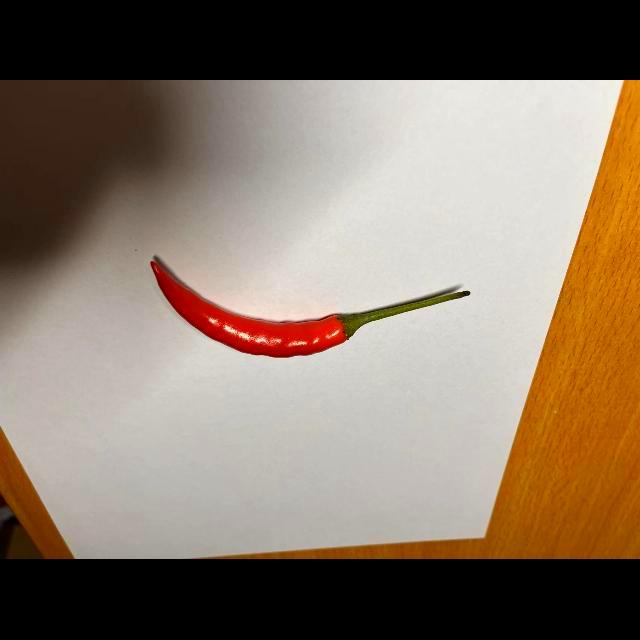chili_pepper: (137, 247, 477, 361)
